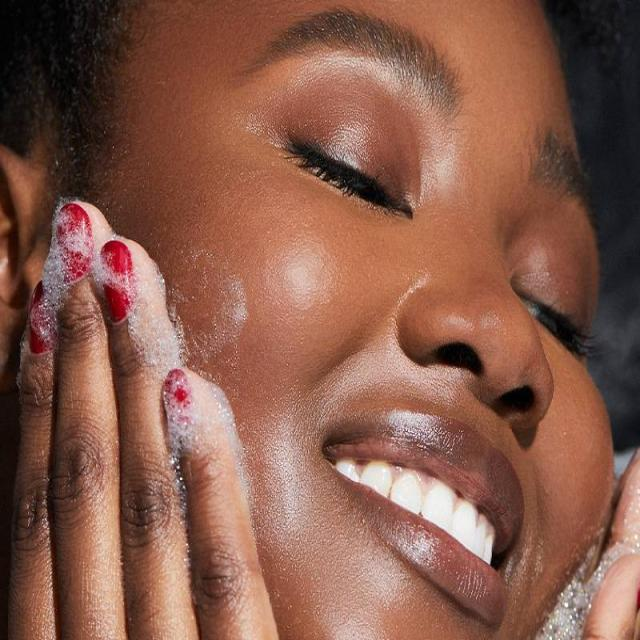Oily-Skin: (236, 195, 358, 345), (244, 385, 314, 540), (375, 263, 441, 400), (436, 116, 461, 206)
